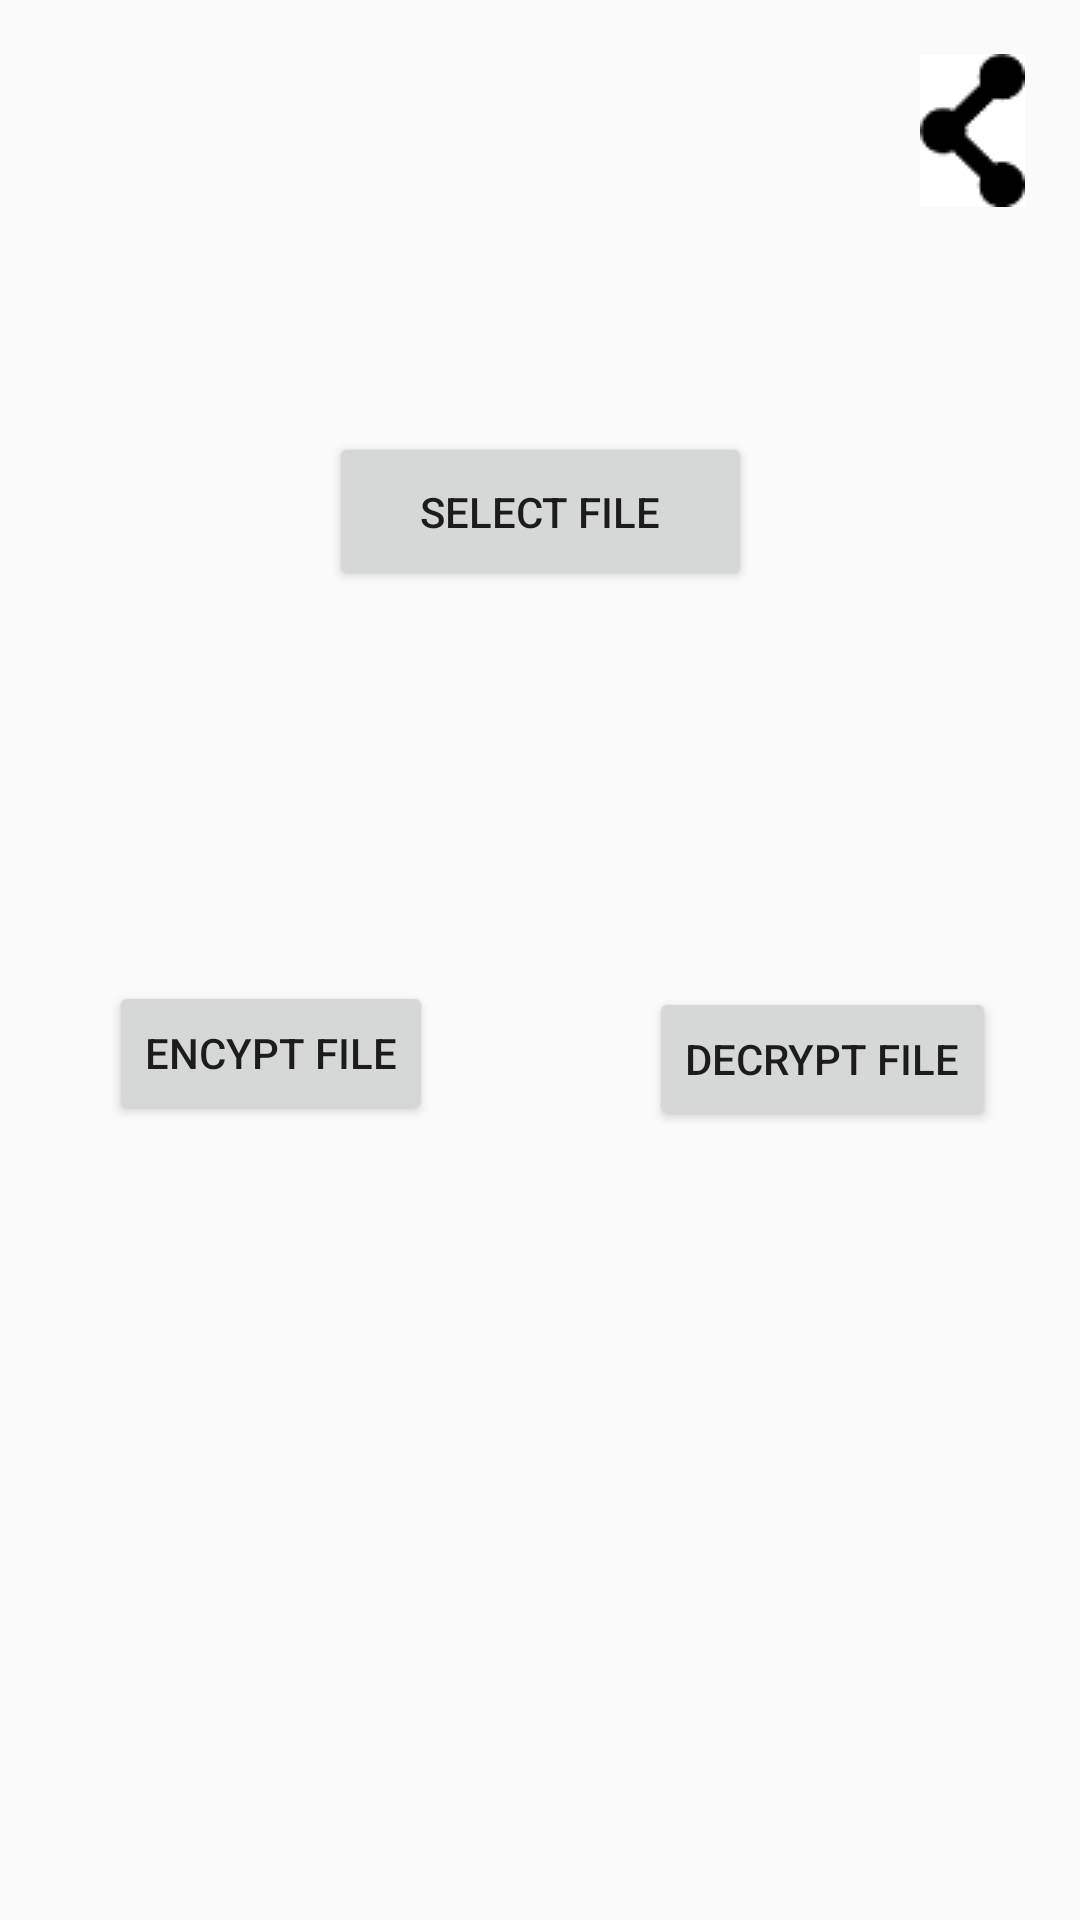

Screen size 1080px×1920px. Icon name, then its center in pixels as point (x, y):
sharepng: point (972, 130)
